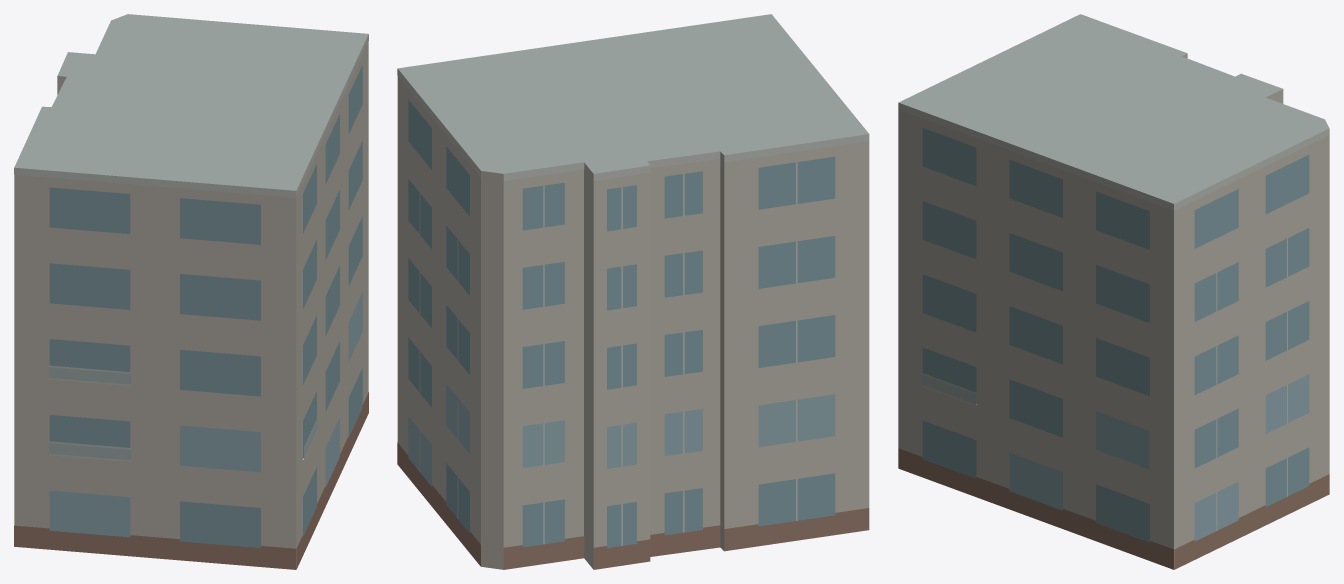
The model's file is survey-upis-32707063.glb.
3 renders of one model, left to right at view 1: azimuth 30°, elevation 25°; view 2: azimuth 150°, elevation 25°; view 3: azimuth 270°, elevation 25°, orthographic. The views are drawn at different scales.
Visible parts, largest first — view 1: survey-upis-32707063.tmp; view 2: survey-upis-32707063.tmp; view 3: survey-upis-32707063.tmp.
Boxes of the visible parts, <box> form: survey-upis-32707063.tmp: <box>14,14,368,569</box>; survey-upis-32707063.tmp: <box>397,14,869,569</box>; survey-upis-32707063.tmp: <box>898,14,1329,569</box>.
Bounding box in the file's own units: 14.92 × 13.4 × 14.32.
